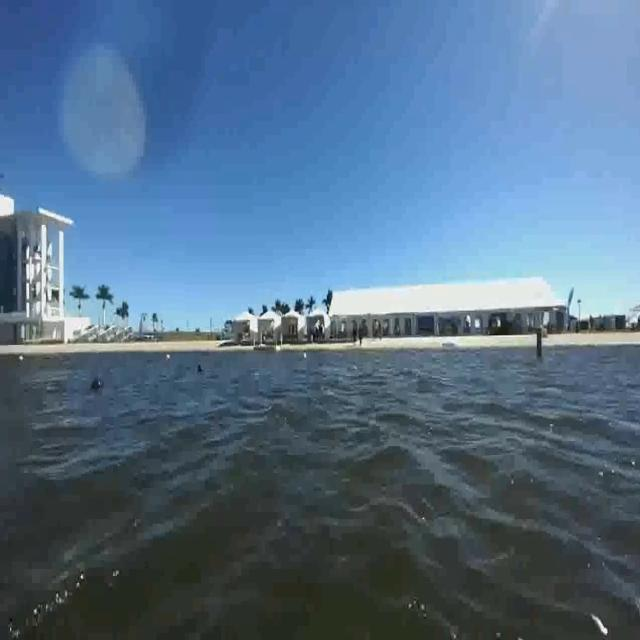black-buoy: (89, 375, 106, 396)
